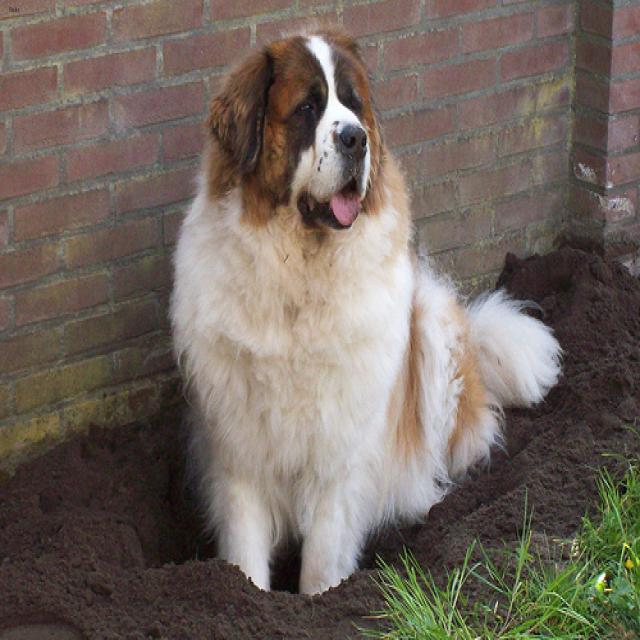dog-saint_bernard: (164, 14, 566, 602)
